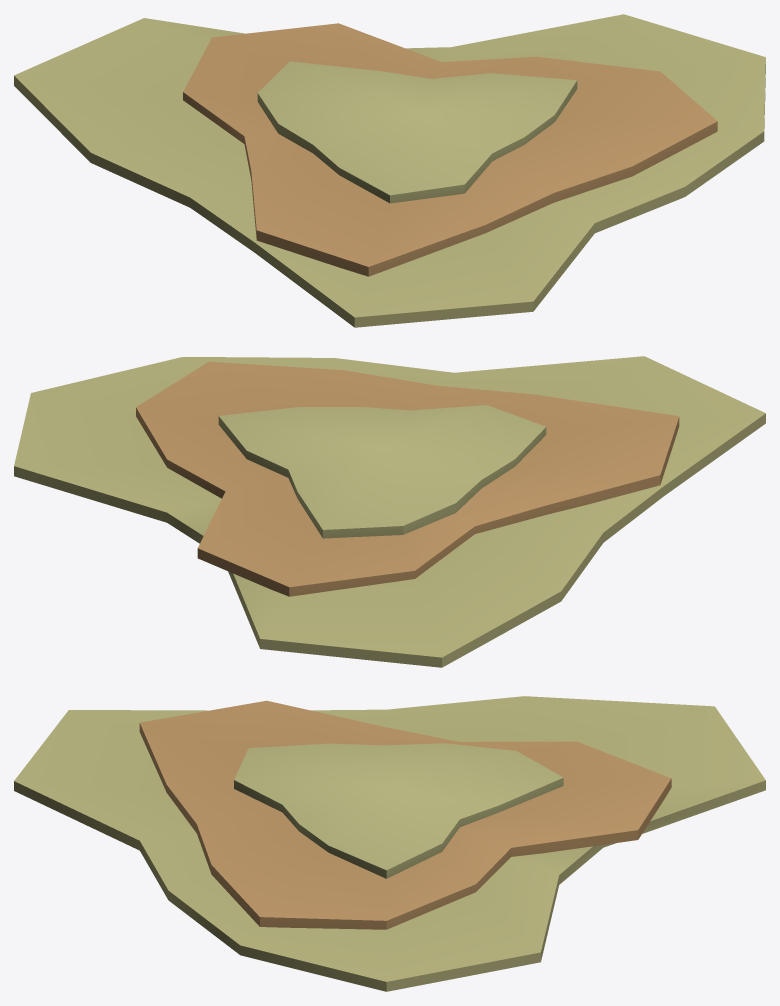
File: lichen_mat.glb
3 views of the same model, one above another, from view 1: azimuth 30°, elevation 25°; view 2: azimuth 150°, elevation 25°; view 3: azimuth 270°, elevation 25° (orthographic). The views are drawn at different scales.
Parts seen in each view (by area): view 1: lichen_mat; view 2: lichen_mat; view 3: lichen_mat.
Boxes of the visible parts, x1,y1,x2,y2 form: lichen_mat: (14,14,765,327); lichen_mat: (14,356,765,667); lichen_mat: (14,696,765,991).
Size of the model in its own units: 2.48 by 0.16 by 2.75.
